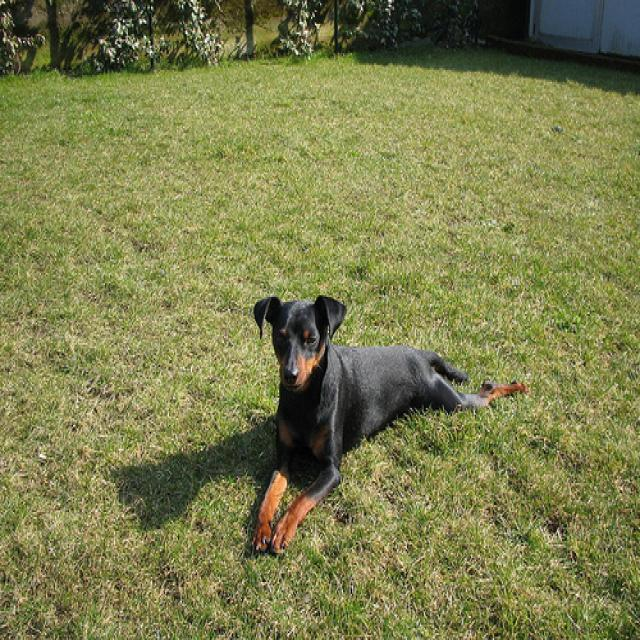dog-miniature_pinscher: (248, 290, 530, 561)
